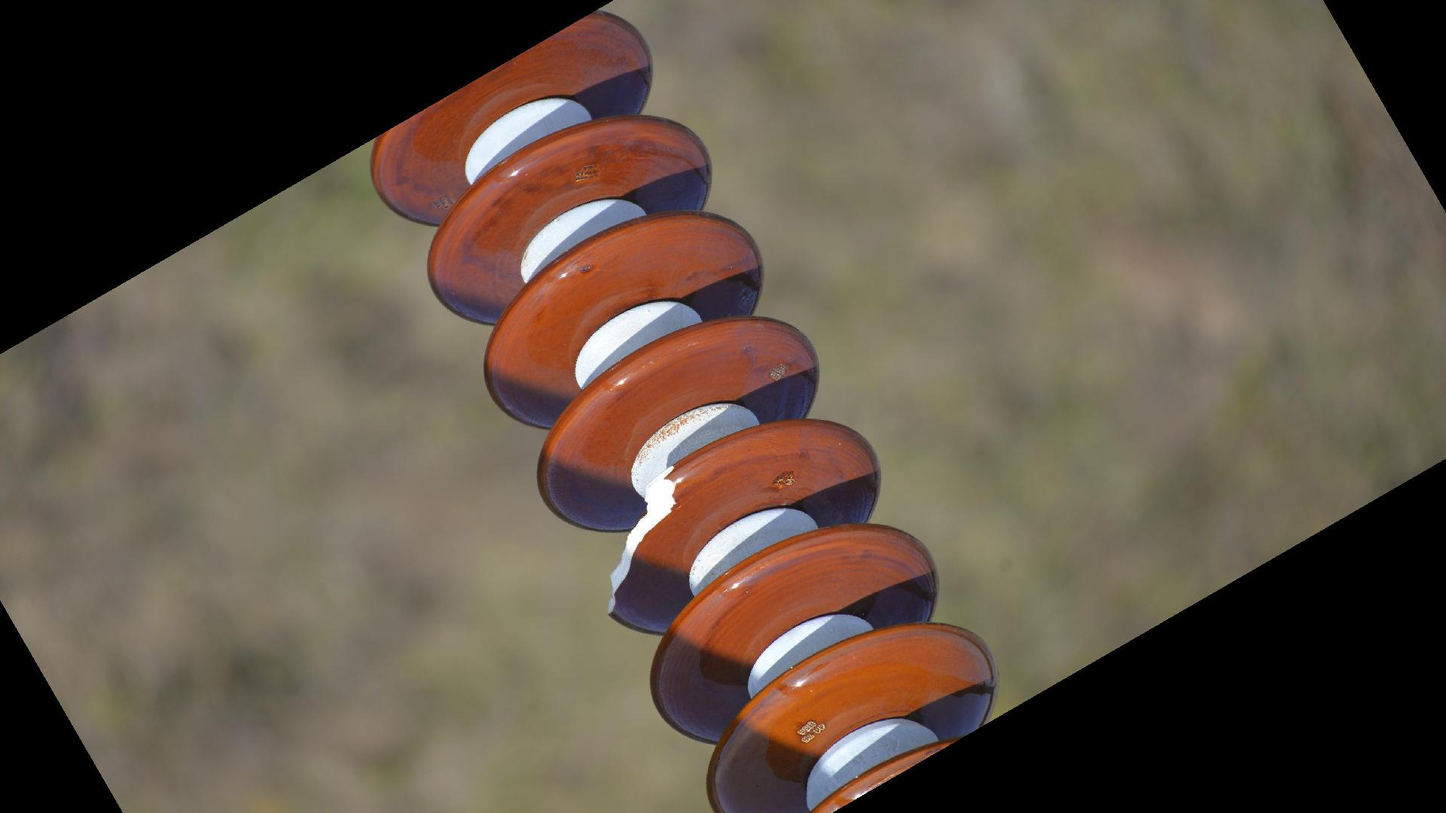insulator: (359, 1, 1002, 813)
insulator_breakage: (594, 455, 688, 626)
